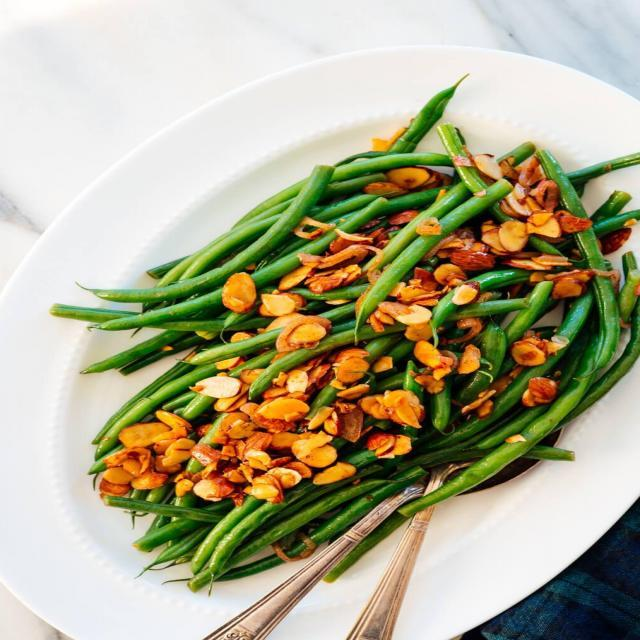Beans: (51, 84, 639, 598)
